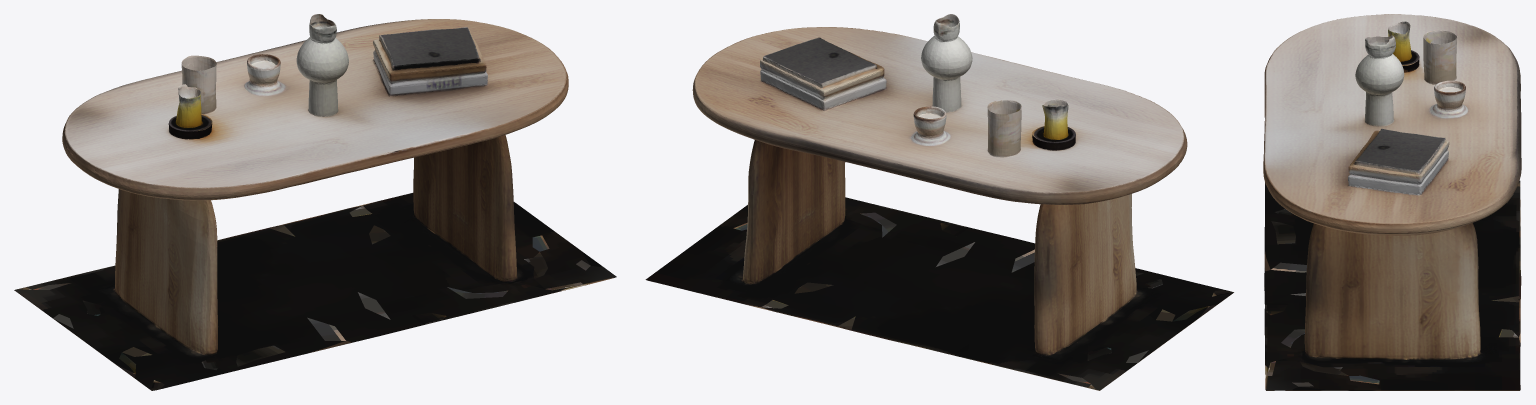
File: cozy_table.glb
3 renders of one model, left to right at view 1: azimuth 30°, elevation 25°; view 2: azimuth 150°, elevation 25°; view 3: azimuth 270°, elevation 25°, orthographic. The views are drawn at different scales.
Parts seen in each view (by area): view 1: world; view 2: world; view 3: world.
Boxes of the visible parts, x1=… form: world: x1=14, y1=14, x2=616, y2=390; world: x1=645, y1=14, x2=1233, y2=390; world: x1=1263, y1=14, x2=1521, y2=390.
Bounding box in the file's own units: 1 × 0.5586 × 0.5198.
Materials: 1 (1 with a texture image).
